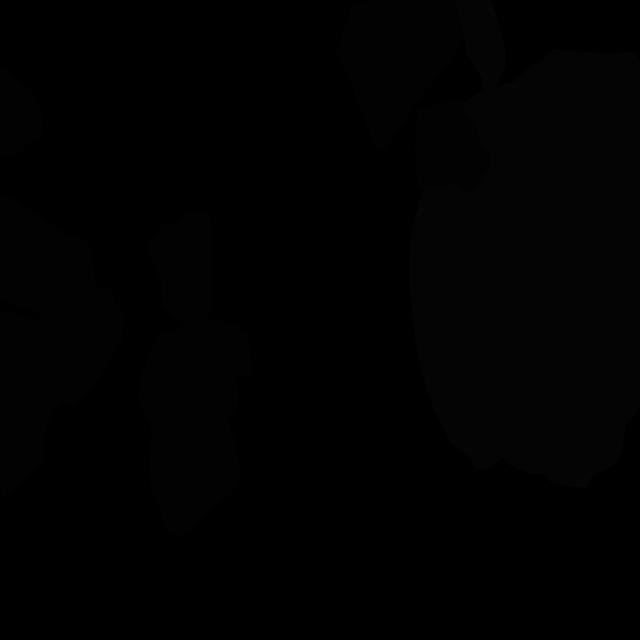cardboard: (138, 319, 252, 537), (0, 310, 121, 499), (336, 0, 464, 153), (0, 193, 115, 306), (0, 255, 124, 359), (145, 210, 213, 329), (414, 99, 490, 192), (0, 63, 44, 158)
soft_plastic: (409, 49, 640, 488), (454, 0, 506, 91)
